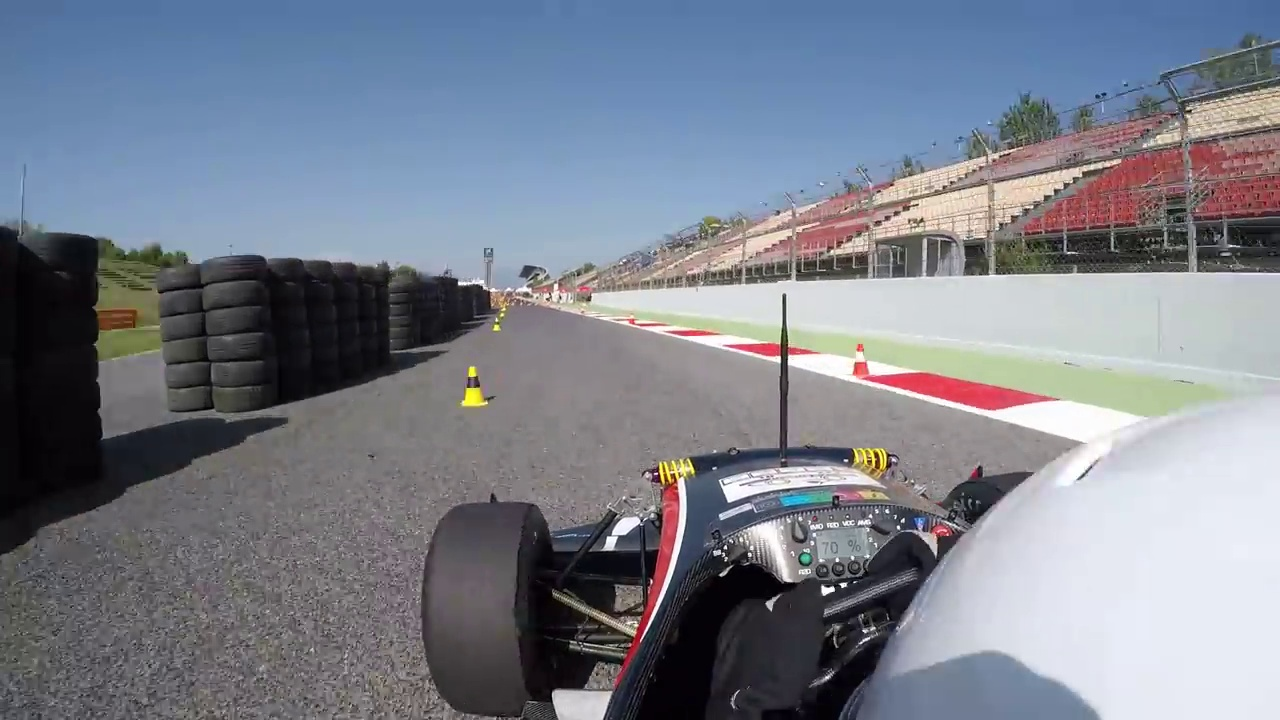Cone: (461, 362, 490, 407), (852, 343, 873, 380)
